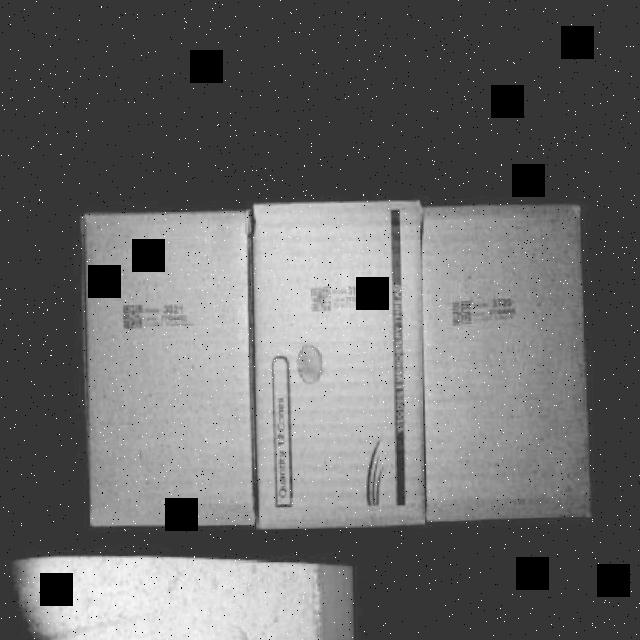box: (252, 200, 426, 522), (426, 200, 592, 520), (89, 217, 254, 530)
